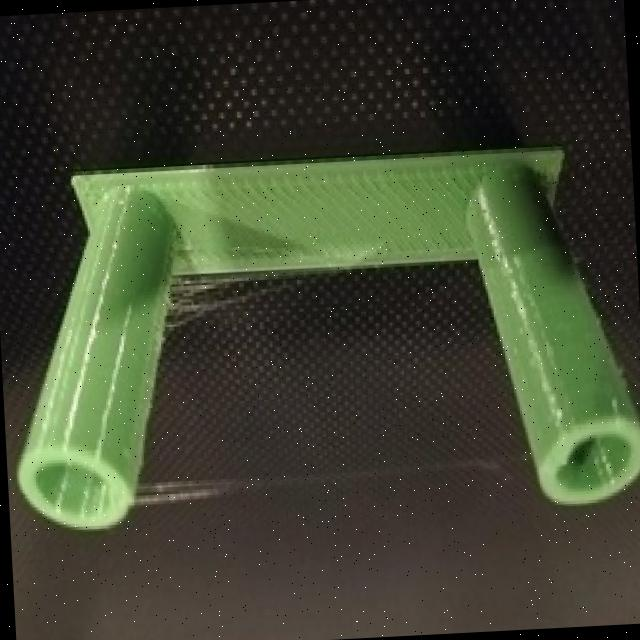stringing: (130, 437, 522, 516), (153, 230, 287, 346)
